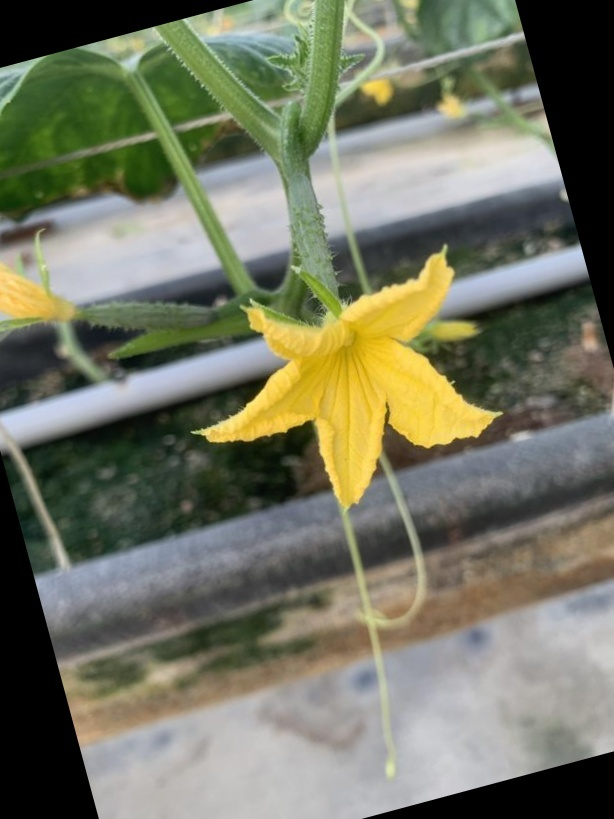flowering: (186, 169, 500, 508)
